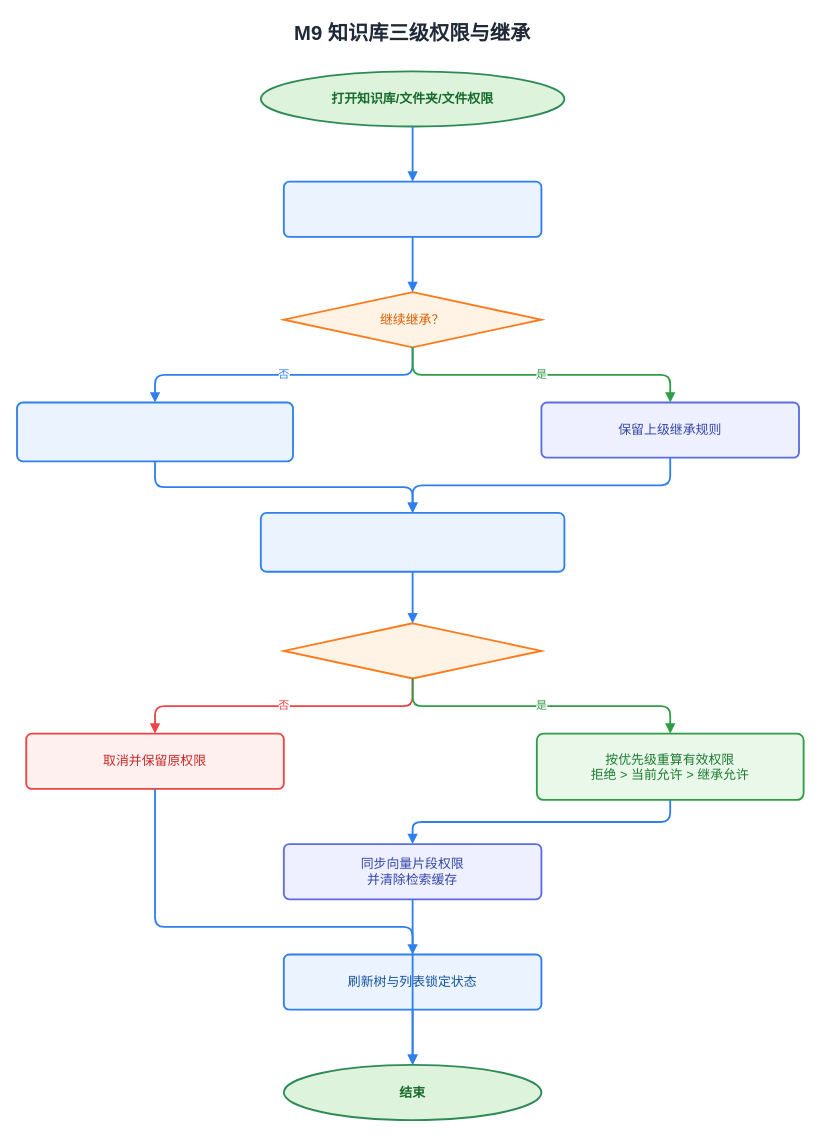
Image size: 820x1136. Some labels were removed from this diagram. Each missing label, with the box of its shape:
展示继承来源、有效权限与例外: (282, 180, 542, 237)
管理员确认保存？: (282, 622, 542, 679)
设置当前层允许范围、动作与黑名单: (16, 401, 293, 462)
预览下级影响数量与变化摘要: (259, 512, 565, 572)
